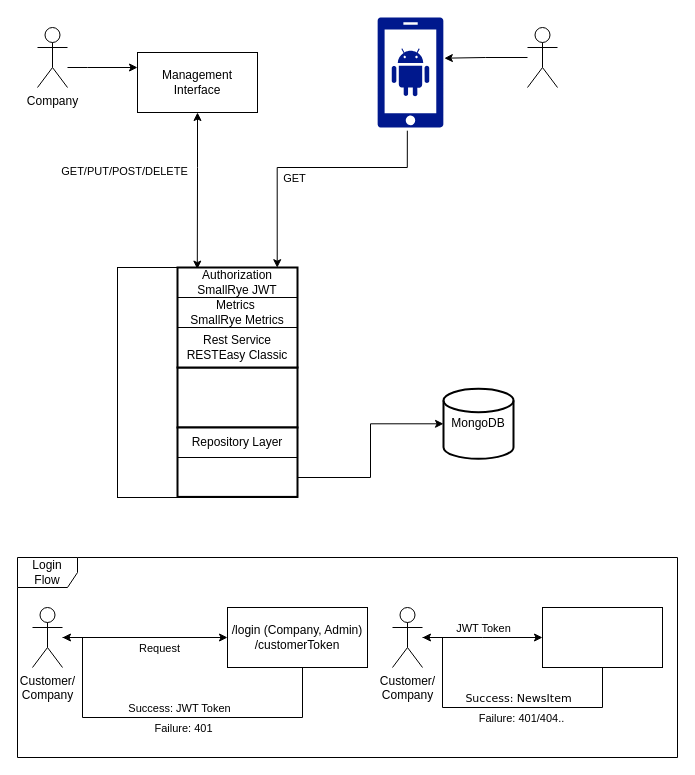
Image size: 695x775. Some labels were removed from this diagram. The shapes that lost their labels are listed below. From the top down, each one's centre as x and y in pixels, then its label:
the point at 542,57: Customer
the point at 147,382: Quarkus
the point at 237,397: Business Logic Layer
the point at 237,477: Panache ORM Mapper
the point at 602,637: /newsitem/latest
